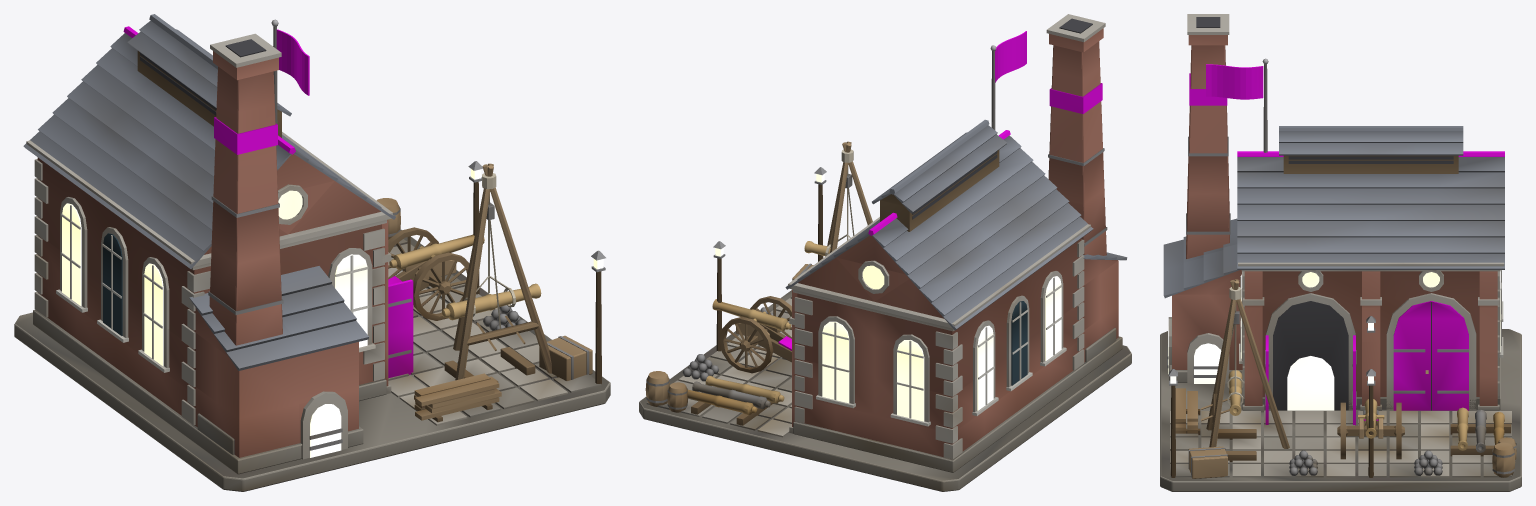
Rendered from factory_gunpowder.glb.
The picture shows the model from 3 angles, left to right: view 1: azimuth 30°, elevation 25°; view 2: azimuth 150°, elevation 25°; view 3: azimuth 270°, elevation 25°; orthographic projection. The views are drawn at different scales.
Parts seen in each view (by area): view 1: Body; view 2: Body; view 3: Body.
Boxes of the visible parts, x1,y1,x2,y2 form: Body: (14,14,610,491); Body: (639,14,1131,491); Body: (1160,14,1521,491).
Size of the model in its own units: 6 by 6.14 by 6.
1 material, 1 textured.
